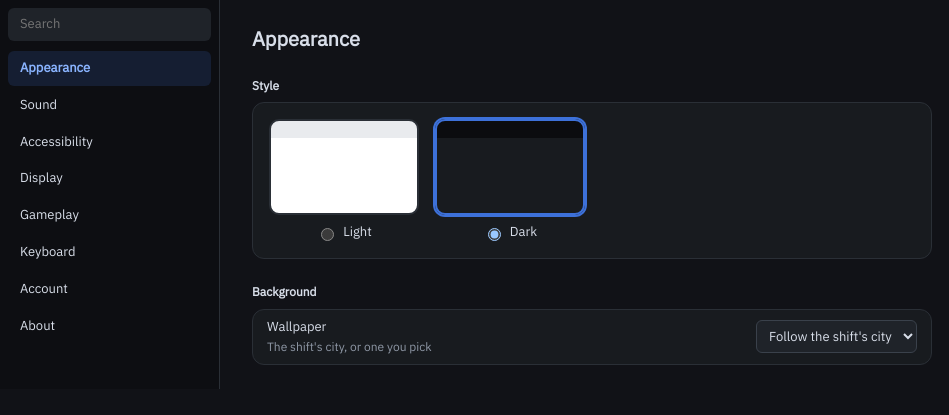
Scenario: Settings: Difficulty (M6 spec H1) › says a change applies from the next shift once a shift has started
Click the button "Gameplay" at (110, 216), box [8,198,211,233]
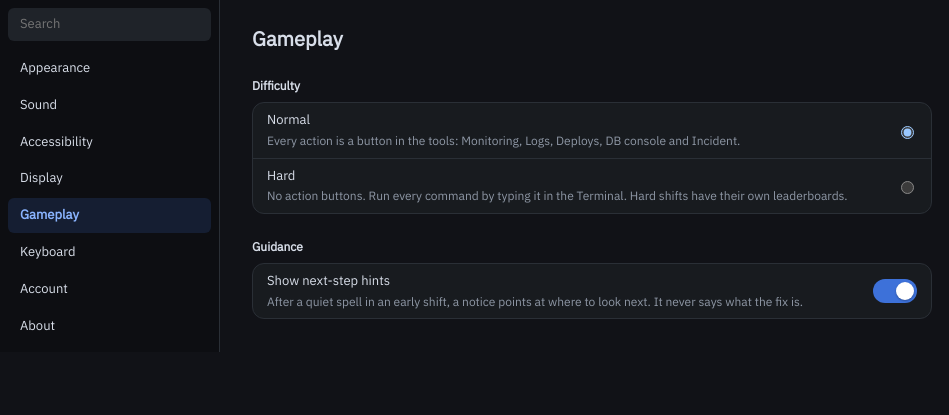
Click the radio button named "Hard" at (908, 187), box [901,181,914,194]
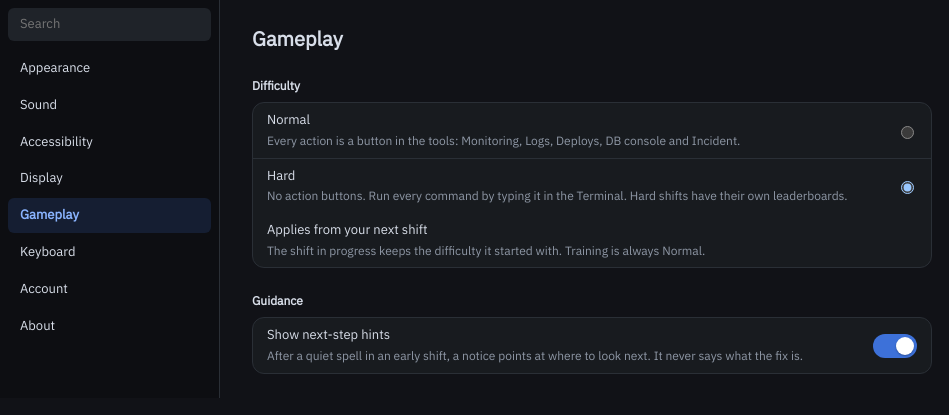
Result: the text "Applies from your next shift" is shown at [267,221,428,238]
